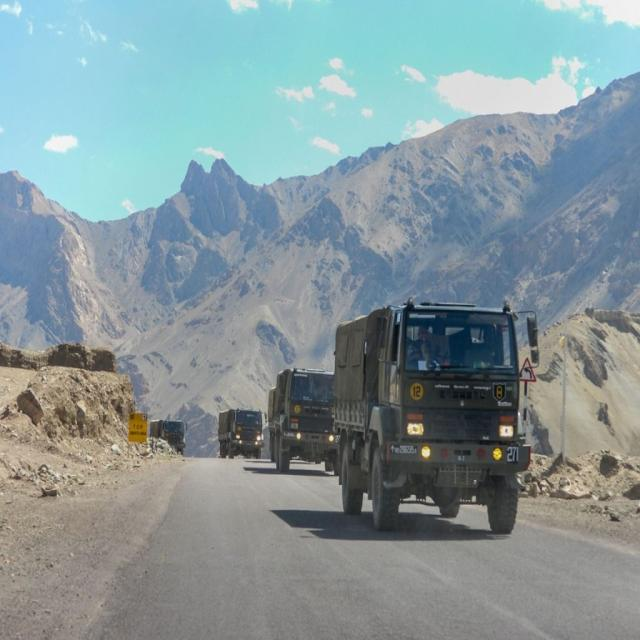truck: (334, 300, 530, 532), (268, 368, 338, 472)
